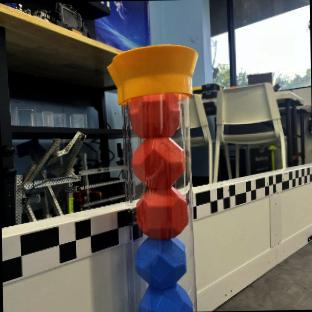V5_BLUE: (135, 234, 185, 287), (139, 284, 191, 312)
V5_RED: (132, 136, 183, 192), (137, 186, 188, 238), (128, 91, 185, 137)
